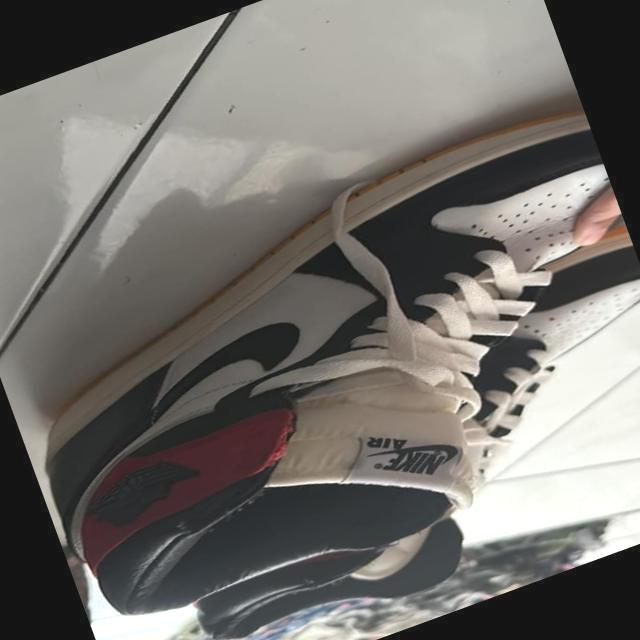nike_fake_jordan: (0, 99, 640, 640), (118, 219, 640, 640)
